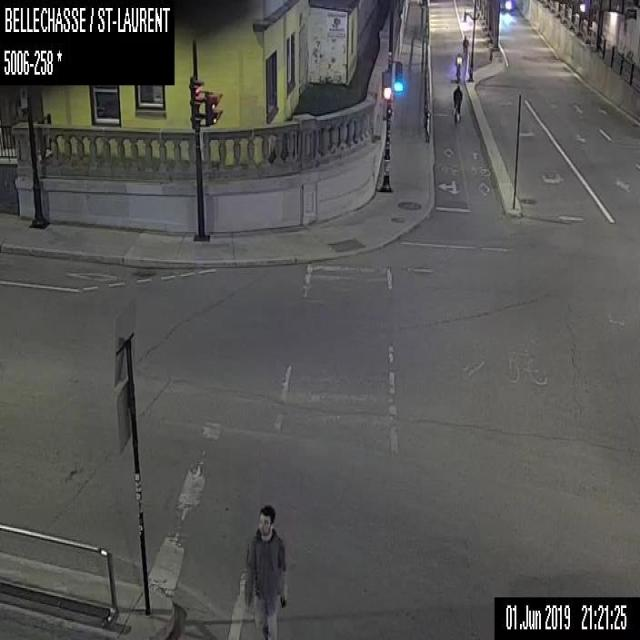cyclist: (452, 84, 463, 122), (454, 52, 462, 82), (462, 34, 468, 59)
pedestrian: (243, 504, 288, 639)
vehicle: (498, 0, 512, 9)
